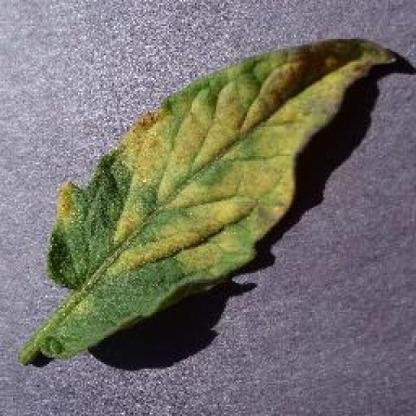Tomato_Leaf_Mold: (47, 38, 392, 318)
